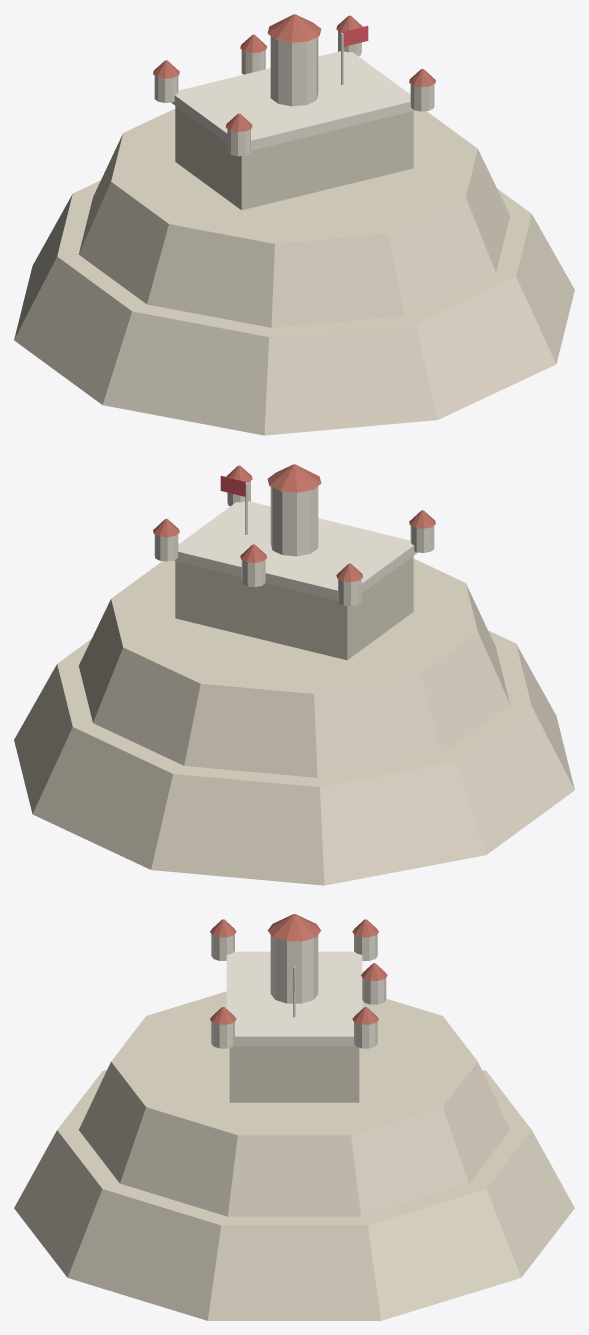
Rendered from elmorro.glb.
3 renders of one model, top to bottom at view 1: azimuth 30°, elevation 25°; view 2: azimuth 150°, elevation 25°; view 3: azimuth 270°, elevation 25°, orthographic. The views are drawn at different scales.
Parts seen in each view (by area): view 1: sj_base, sj_mid, sj_keep, sj_para, sj_light, sj_lroof, sj_g3, sj_g2, sj_g0; view 2: sj_base, sj_mid, sj_keep, sj_para, sj_light, sj_lroof, sj_g4, sj_g1, sj_g0, sj_g2; view 3: sj_base, sj_mid, sj_para, sj_keep, sj_light, sj_lroof, sj_g4, sj_g1, sj_g3, sj_g0, sj_g2.
Boxes of the visible parts, <box> form: sj_base: <box>14,180,574,435</box>; sj_mid: <box>78,109,509,327</box>; sj_keep: <box>175,106,413,210</box>; sj_para: <box>171,51,415,150</box>; sj_light: <box>270,36,318,106</box>; sj_lroof: <box>267,14,321,42</box>; sj_g3: <box>410,84,434,111</box>; sj_g2: <box>227,129,250,156</box>; sj_g0: <box>154,76,178,102</box>; sj_base: <box>14,630,574,885</box>; sj_mid: <box>79,559,510,777</box>; sj_keep: <box>175,556,413,660</box>; sj_para: <box>173,501,417,600</box>; sj_light: <box>270,486,318,556</box>; sj_lroof: <box>267,464,321,492</box>; sj_g4: <box>241,559,265,586</box>; sj_g1: <box>154,534,178,561</box>; sj_g0: <box>338,579,361,606</box>; sj_g2: <box>410,526,434,552</box>; sj_base: <box>14,1069,574,1320</box>; sj_mid: <box>79,991,509,1216</box>; sj_para: <box>226,951,362,1046</box>; sj_keep: <box>229,1046,359,1102</box>; sj_light: <box>270,935,318,1003</box>; sj_lroof: <box>267,914,321,941</box>; sj_g4: <box>362,978,386,1004</box>; sj_g1: <box>354,1021,377,1048</box>; sj_g3: <box>211,1021,234,1048</box>; sj_g0: <box>354,934,377,960</box>; sj_g2: <box>211,934,234,960</box>.
Bounding box in the file's own units: 49.45 × 30 × 52.
